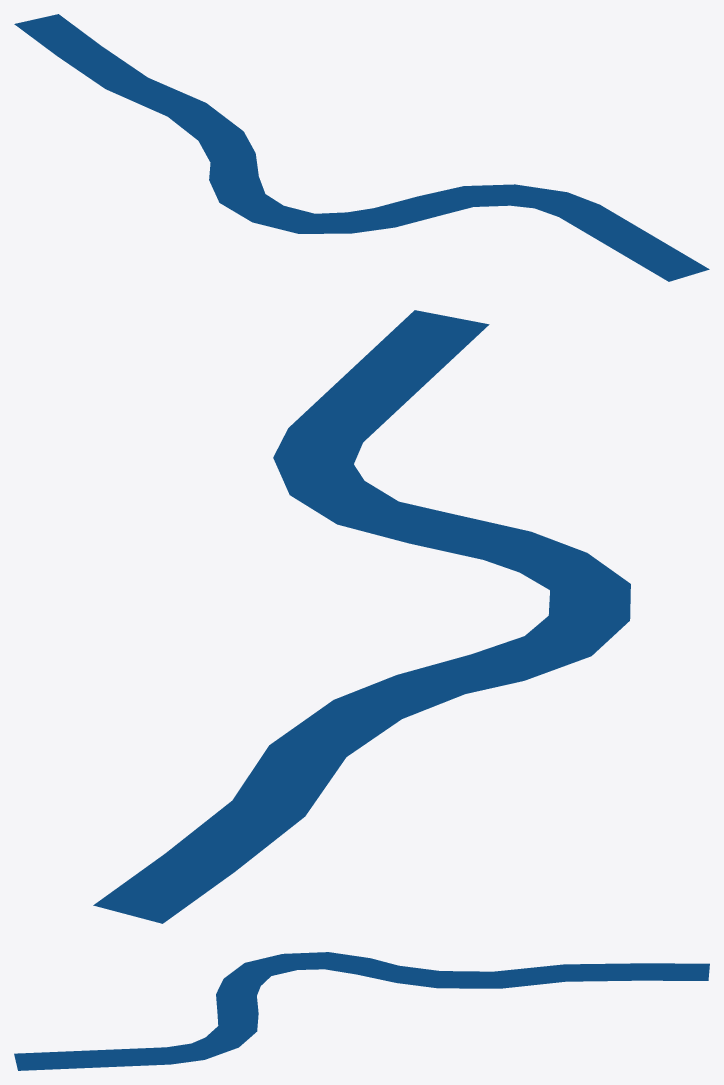
Rendered from Water.fbx.
3 renders of one model, top to bottom at view 1: azimuth 30°, elevation 25°; view 2: azimuth 150°, elevation 25°; view 3: azimuth 270°, elevation 25°, orthographic. The views are drawn at different scales.
Parts seen in each view (by area): view 1: CanalNew; view 2: CanalNew; view 3: CanalNew.
Part boxes in pixels (box(x1,y1,x2,y2)): CanalNew: box(14, 14, 709, 281); CanalNew: box(93, 310, 630, 923); CanalNew: box(14, 952, 709, 1070).
Size of the model in its own units: 1368 by 0.000563 by 3385.
